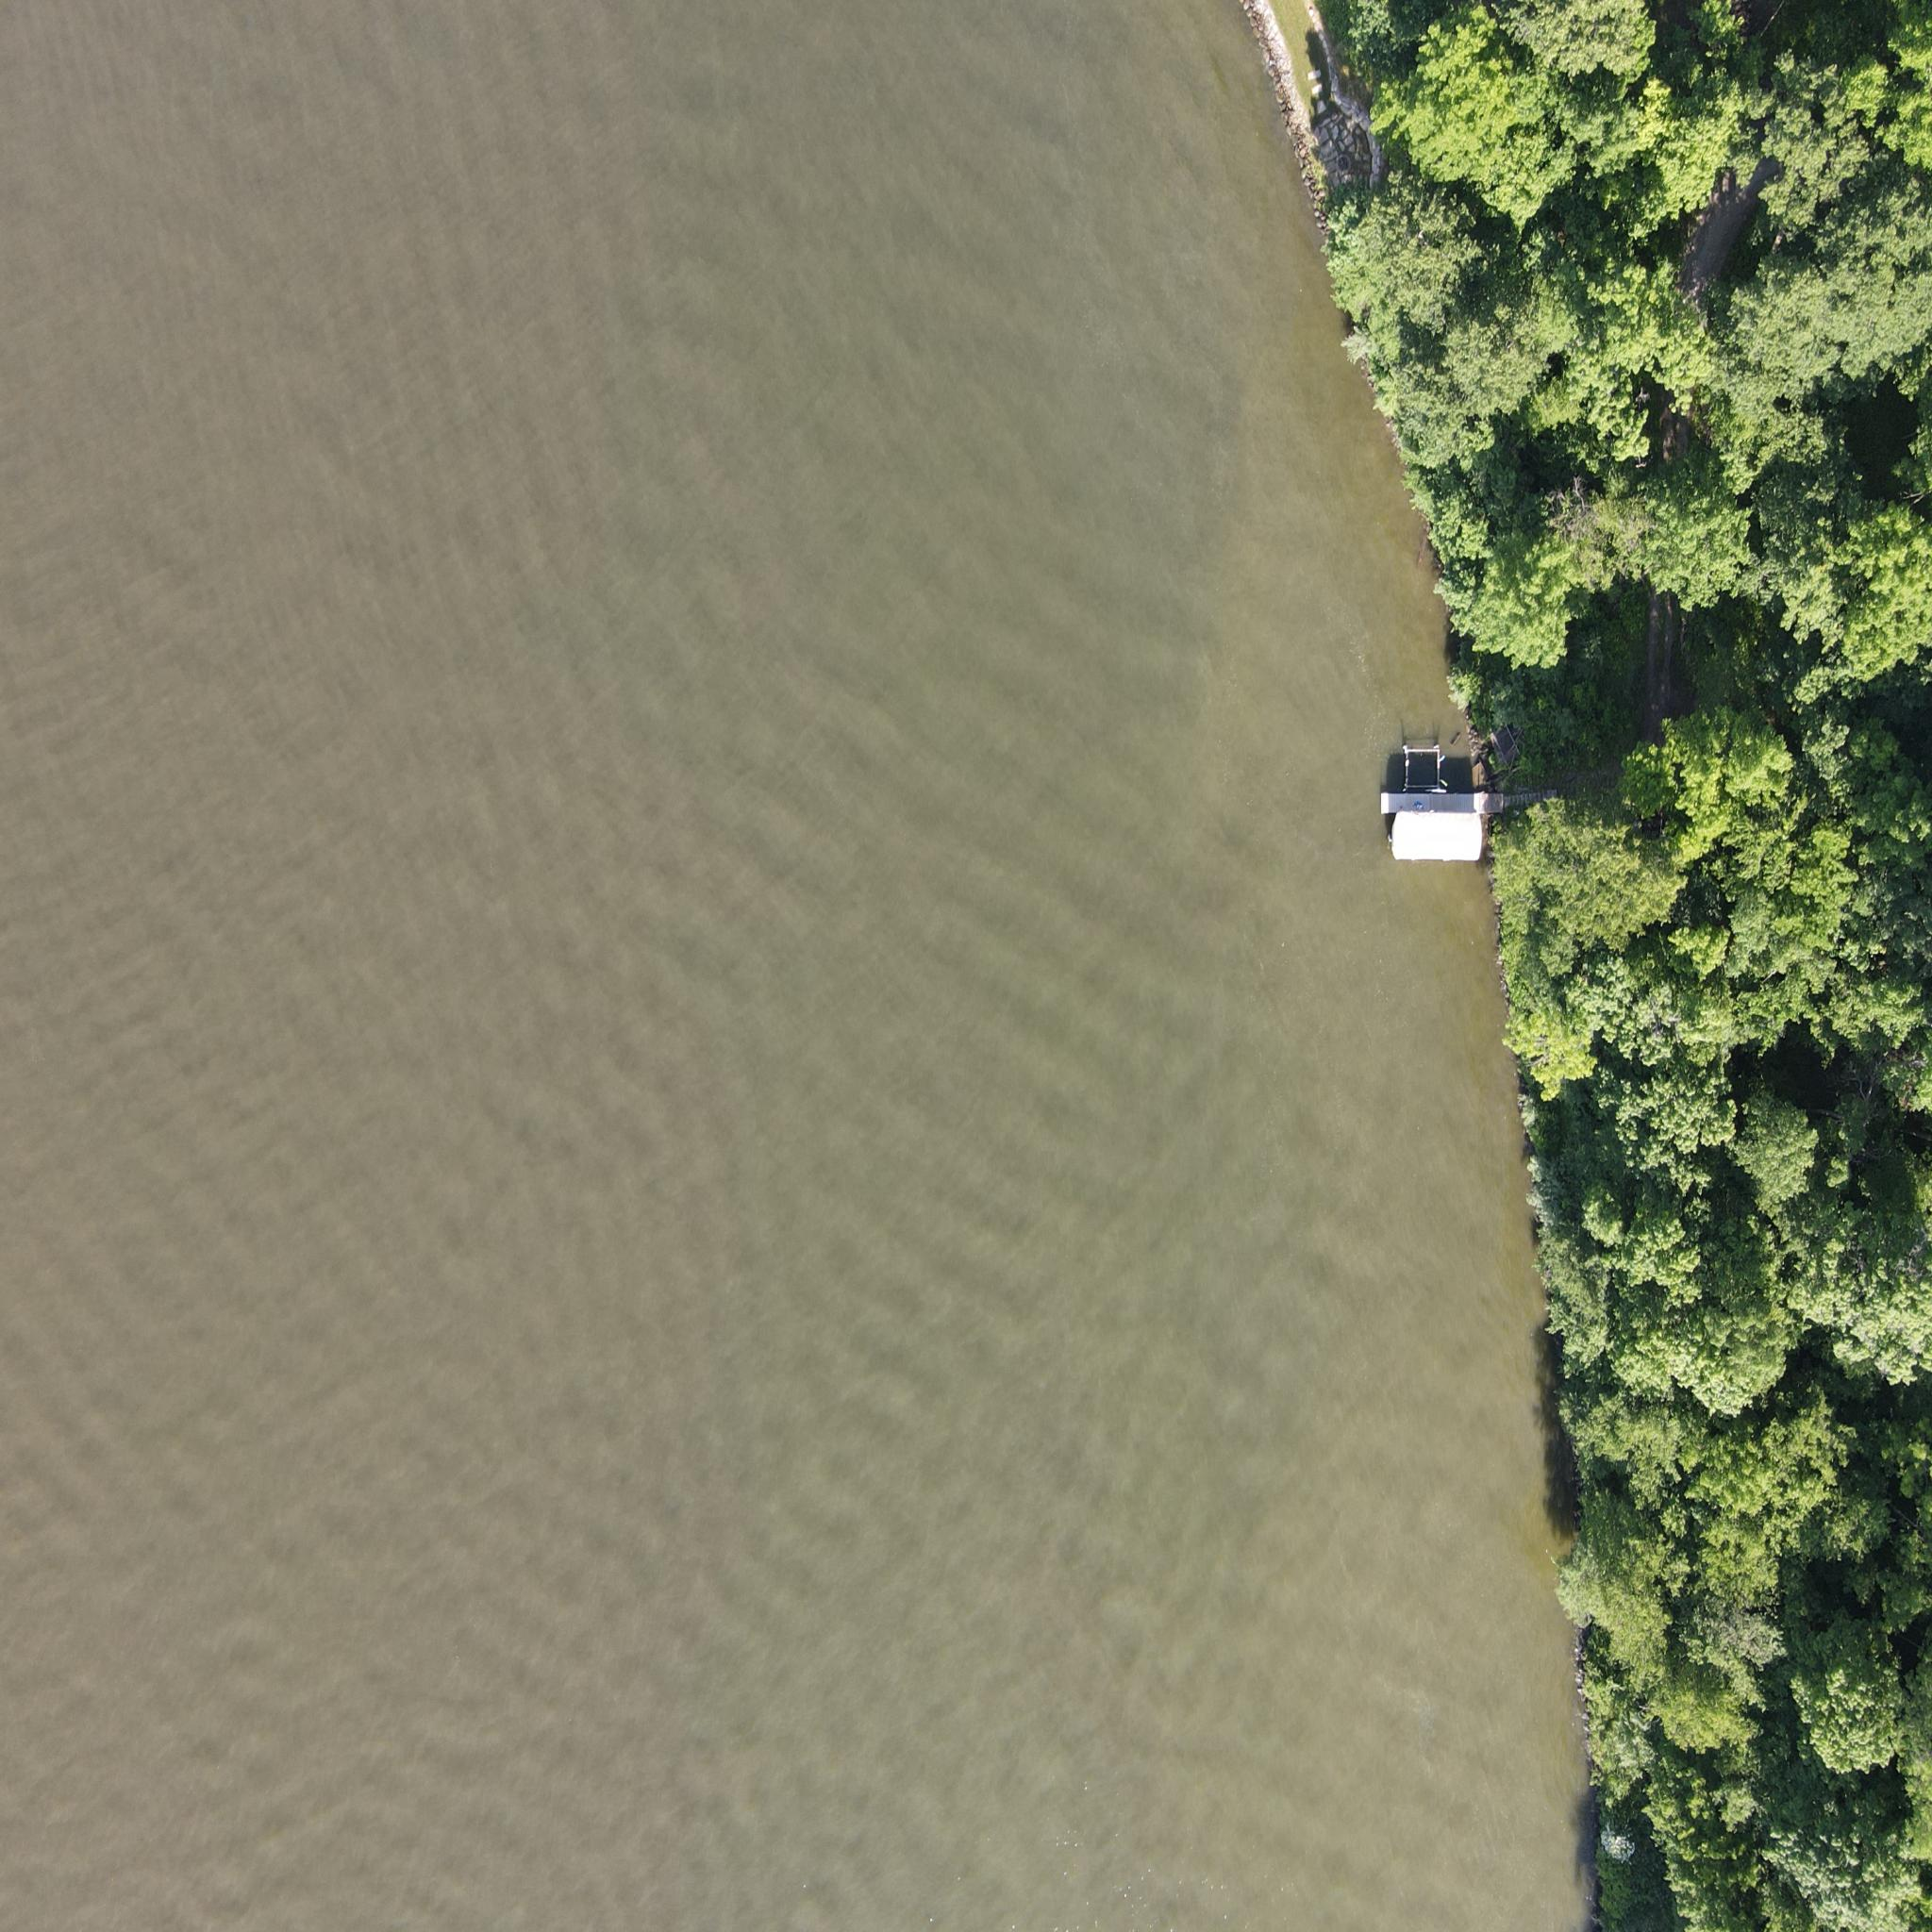dock: (1389, 812, 1488, 865), (1375, 784, 1507, 821)
